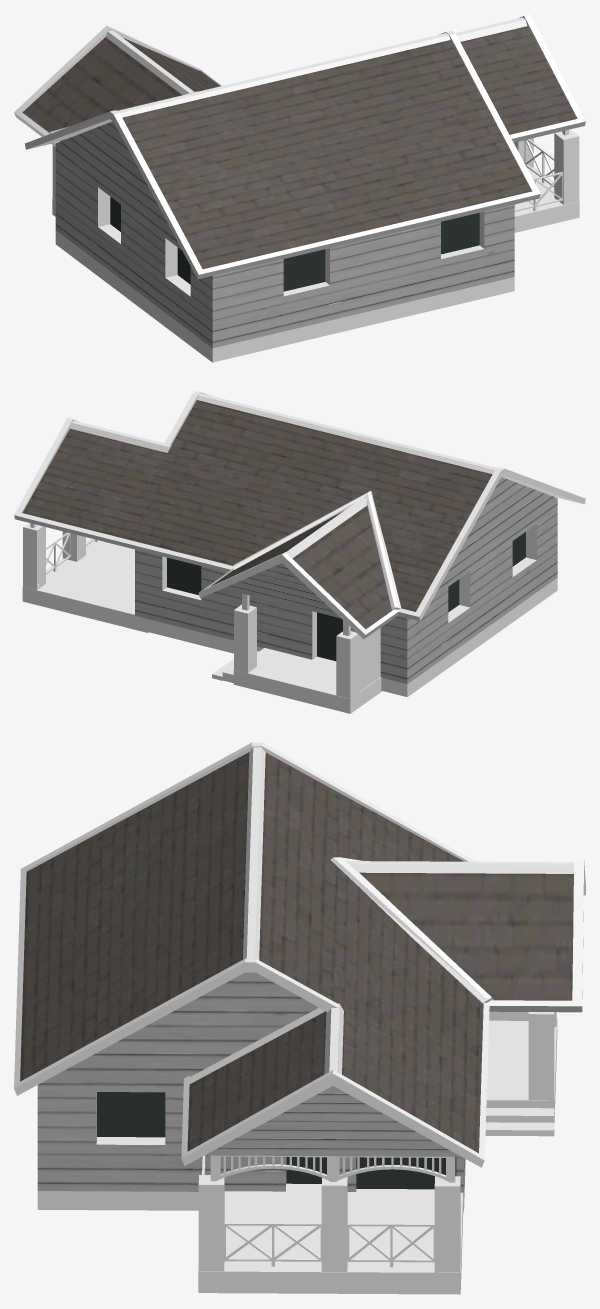
Rendered from House-3Fixed.fbx.
The picture shows the model from 3 angles, top to bottom: view 1: azimuth 30°, elevation 25°; view 2: azimuth 150°, elevation 25°; view 3: azimuth 270°, elevation 25°; orthographic projection. The views are drawn at different scales.
Visible parts, largest first — view 1: HouseFon; view 2: HouseFon; view 3: HouseFon.
Part boxes in pixels (x1,y1,x2,y2): HouseFon: [14, 14, 585, 362]; HouseFon: [14, 391, 585, 713]; HouseFon: [14, 742, 585, 1294].
Size of the model in its own units: 2184 by 914 by 1810.
